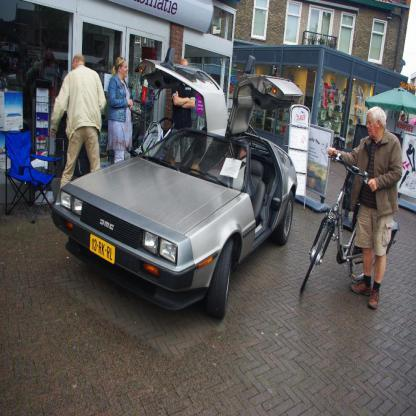car: (68, 90, 316, 335)
